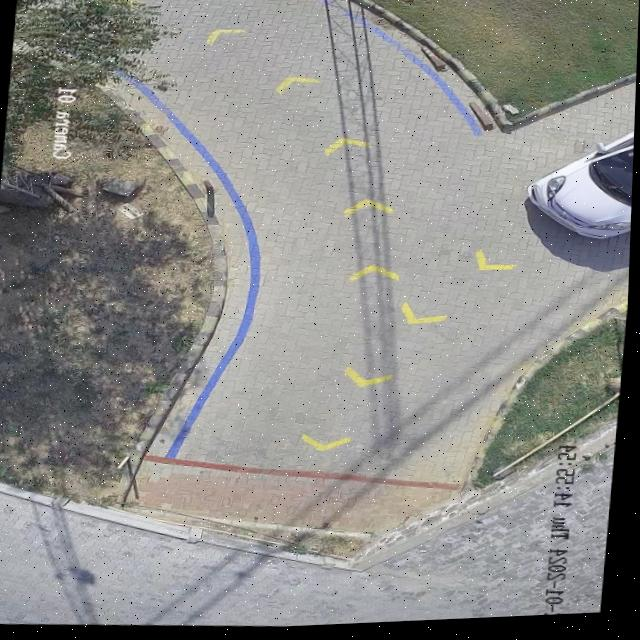car: (528, 136, 635, 244)
